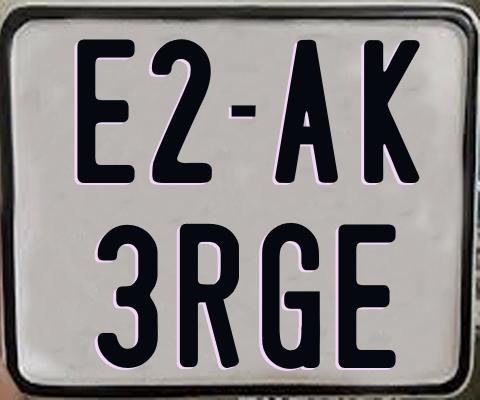2: (152, 37, 214, 185)
3: (97, 223, 161, 371)
A: (273, 40, 337, 188)
E: (337, 221, 397, 369), (77, 37, 135, 186)
G: (259, 221, 323, 373)
K: (362, 38, 418, 182)
R: (180, 224, 242, 368)
